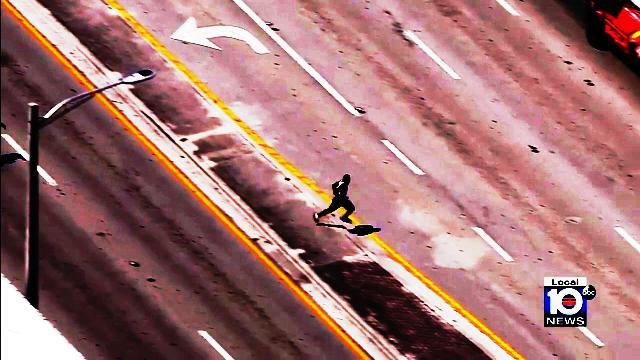berlari: (315, 170, 355, 228)
